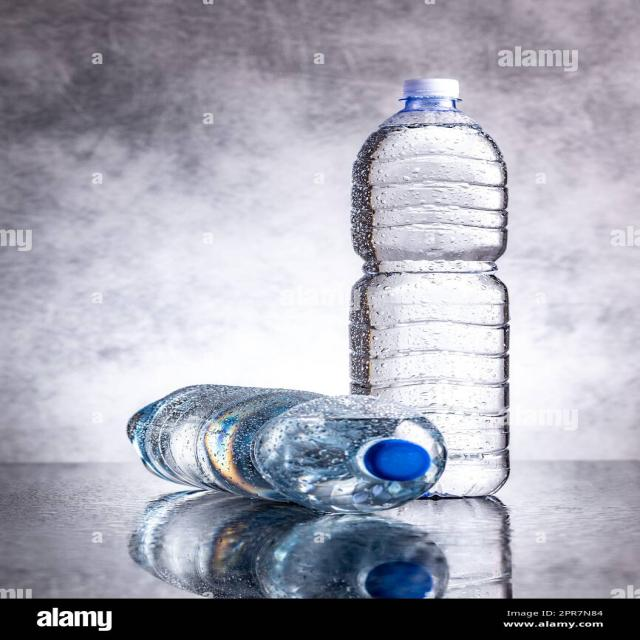bottle: (347, 77, 512, 498), (124, 382, 452, 516)
